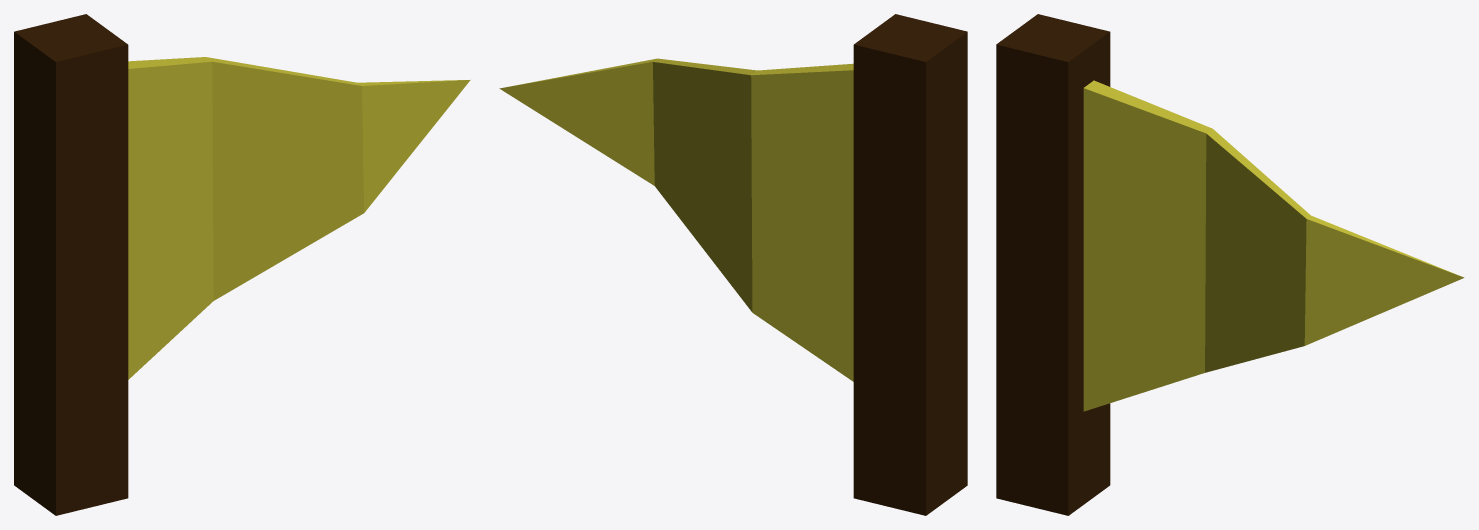
File: yellow_flag.glb
The picture shows the model from 3 angles, left to right: view 1: azimuth 30°, elevation 25°; view 2: azimuth 150°, elevation 25°; view 3: azimuth 330°, elevation 25°; orthographic projection.
Parts seen in each view (by area): view 1: yellow_flag; view 2: yellow_flag; view 3: yellow_flag.
Boxes of the visible parts, x1,y1,x2,y2 form: yellow_flag: (14, 14, 470, 515); yellow_flag: (499, 14, 967, 515); yellow_flag: (996, 14, 1464, 515).
Bounding box in the file's own units: 0.6112 × 0.6 × 0.1.
1 material, 1 textured.
